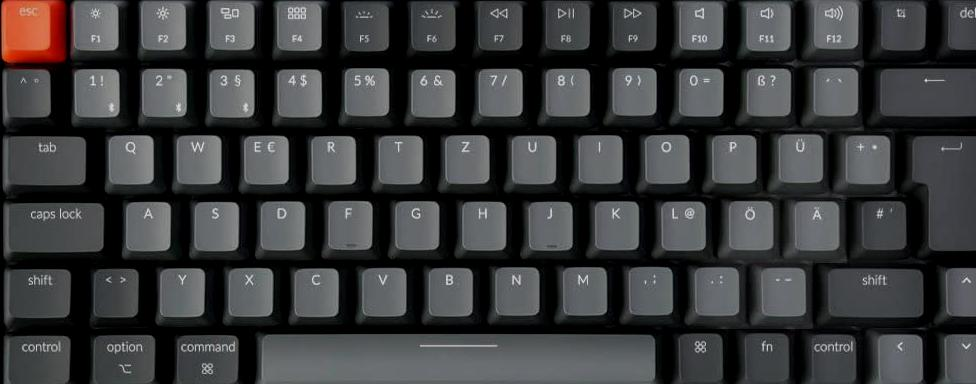0: (675, 63, 725, 116)
1: (70, 63, 120, 117)
2: (138, 63, 187, 117)
3: (206, 64, 256, 117)
4: (274, 64, 322, 116)
5: (341, 63, 390, 115)
6: (407, 64, 457, 116)
7: (475, 64, 524, 116)
8: (541, 64, 591, 116)
9: (608, 63, 657, 115)
a: (122, 197, 171, 250)
accent: (809, 63, 858, 114)
ae: (791, 195, 840, 249)
alt-left: (92, 331, 163, 384)
b: (424, 262, 474, 315)
c: (290, 263, 339, 315)
caret: (1, 63, 51, 116)
comma: (624, 261, 672, 313)
d: (256, 196, 305, 249)
del: (876, 63, 976, 115)
e: (239, 130, 289, 183)
enter: (907, 130, 976, 252)
f: (324, 196, 373, 248)
g: (390, 196, 439, 248)
h: (457, 196, 506, 249)
hash: (857, 195, 905, 248)
i: (574, 130, 623, 182)
j: (524, 196, 572, 249)
k: (591, 196, 639, 248)
keyboard: (1, 1, 976, 384)
l: (657, 196, 707, 249)
less: (89, 263, 139, 316)
m: (557, 261, 607, 314)
minus: (757, 263, 806, 315)
n: (490, 262, 540, 314)
o: (641, 129, 691, 182)
oe: (726, 196, 774, 249)
p: (709, 130, 757, 182)
plus: (842, 129, 890, 182)
point: (691, 262, 740, 313)
q: (104, 129, 154, 183)
r: (308, 130, 357, 183)
s: (190, 197, 239, 250)
shift-left: (2, 263, 71, 317)
shift-lock: (2, 197, 105, 251)
shift-right: (824, 262, 925, 316)
space: (252, 327, 660, 384)
ss: (742, 63, 791, 115)
strg-left: (1, 329, 72, 384)
strg-right: (803, 328, 859, 384)
t: (375, 130, 423, 183)
tab: (2, 130, 87, 184)
u: (508, 130, 557, 183)
ue: (775, 128, 824, 182)
v: (358, 262, 408, 315)
w: (172, 129, 222, 183)
x: (225, 263, 274, 316)
y: (156, 263, 205, 316)
z: (441, 130, 490, 183)
